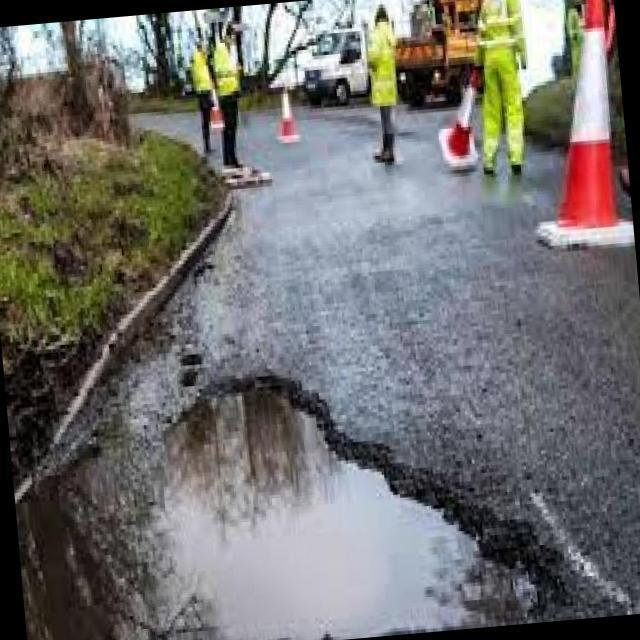Pothole: (123, 347, 563, 640)
